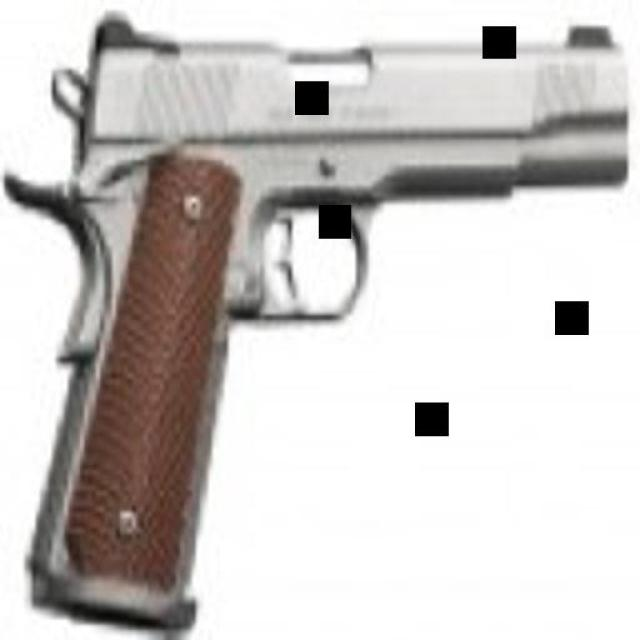gun: (6, 9, 619, 639)
